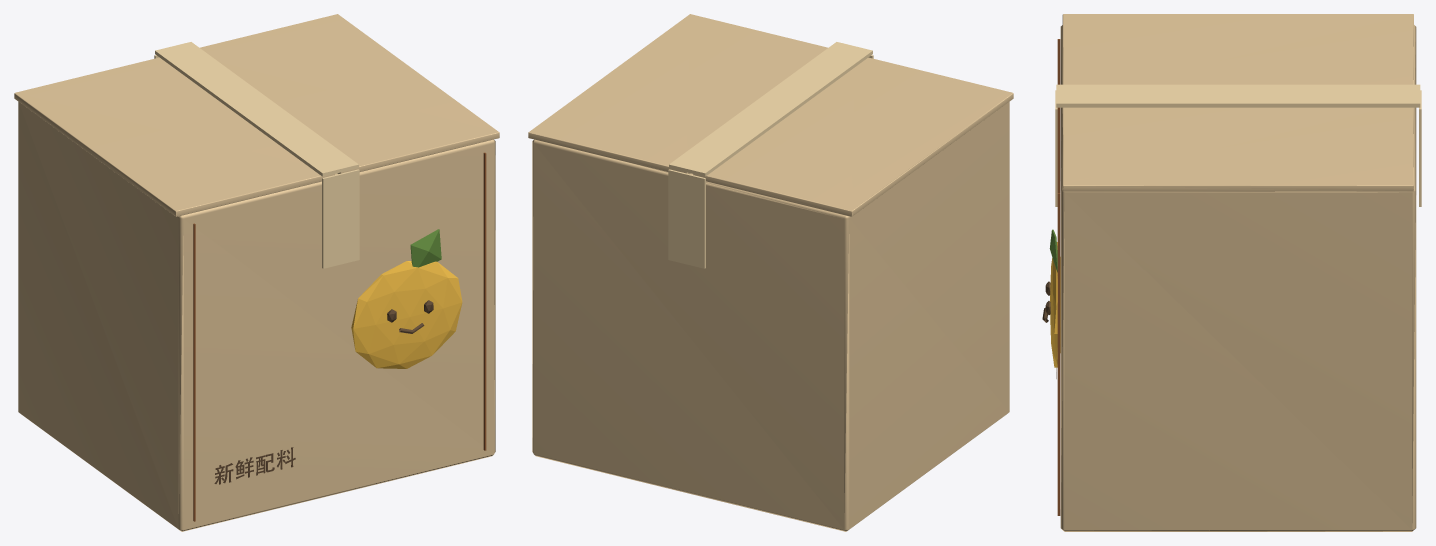
File: cardboard_box.fbx
3 views of the same model, side by side, from view 1: azimuth 30°, elevation 25°; view 2: azimuth 150°, elevation 25°; view 3: azimuth 270°, elevation 25° (orthographic). The views are drawn at different scales.
Visible parts, largest first — view 1: cardboard_box; view 2: cardboard_box; view 3: cardboard_box.
Part boxes in pixels (bbox=[...]): cardboard_box: bbox=[14, 14, 499, 531]; cardboard_box: bbox=[528, 14, 1013, 531]; cardboard_box: bbox=[1042, 14, 1421, 531].
Bounding box in the file's own units: 49.1 × 47.45 × 45.85.
